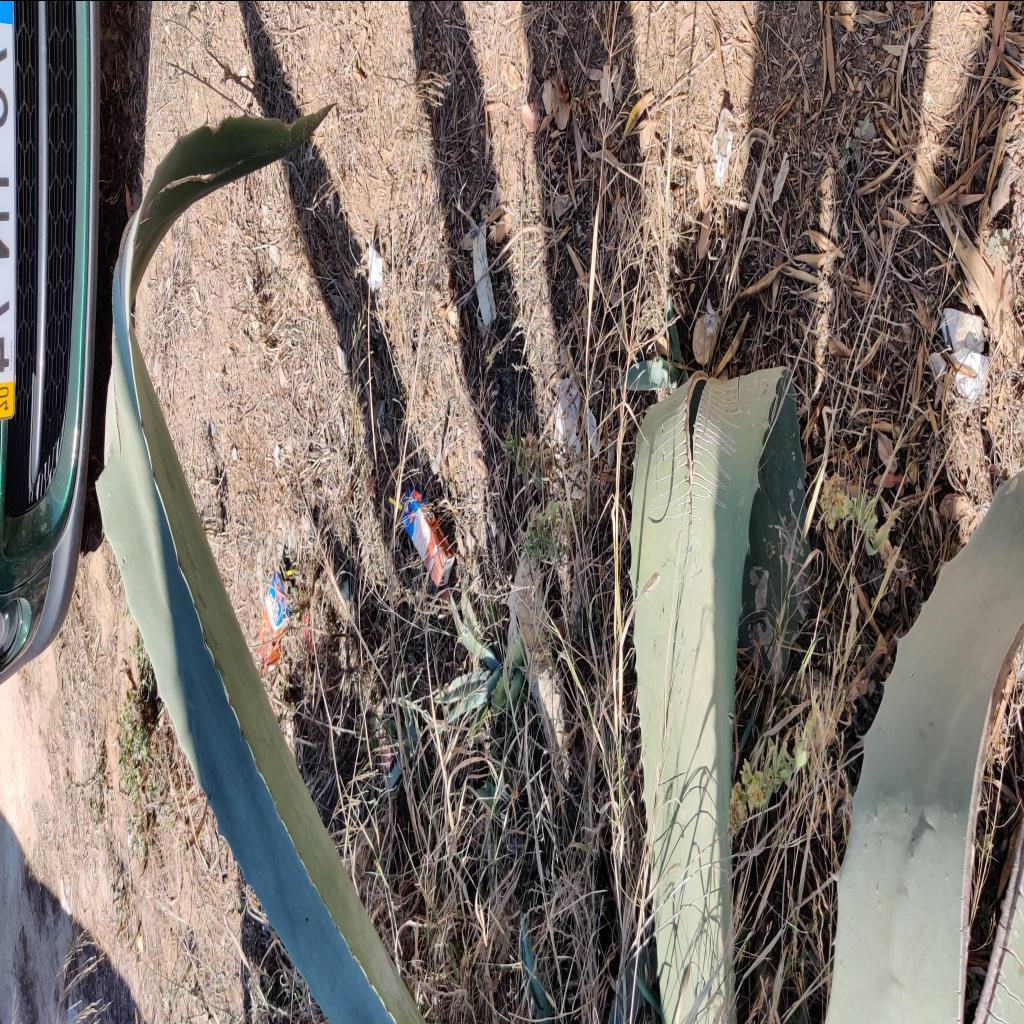Drink carton: (399, 484, 455, 588), (254, 558, 294, 672)
Other plastic: (941, 308, 985, 354), (712, 106, 734, 188)
Plastic straw: (388, 494, 402, 512)
Unlabeled litter: (472, 225, 496, 323), (950, 345, 990, 397), (298, 585, 316, 655), (368, 244, 382, 288)
